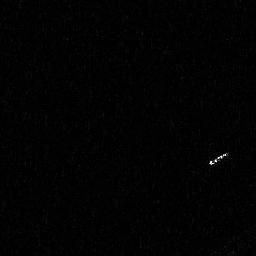ship: (208, 150, 227, 165)
